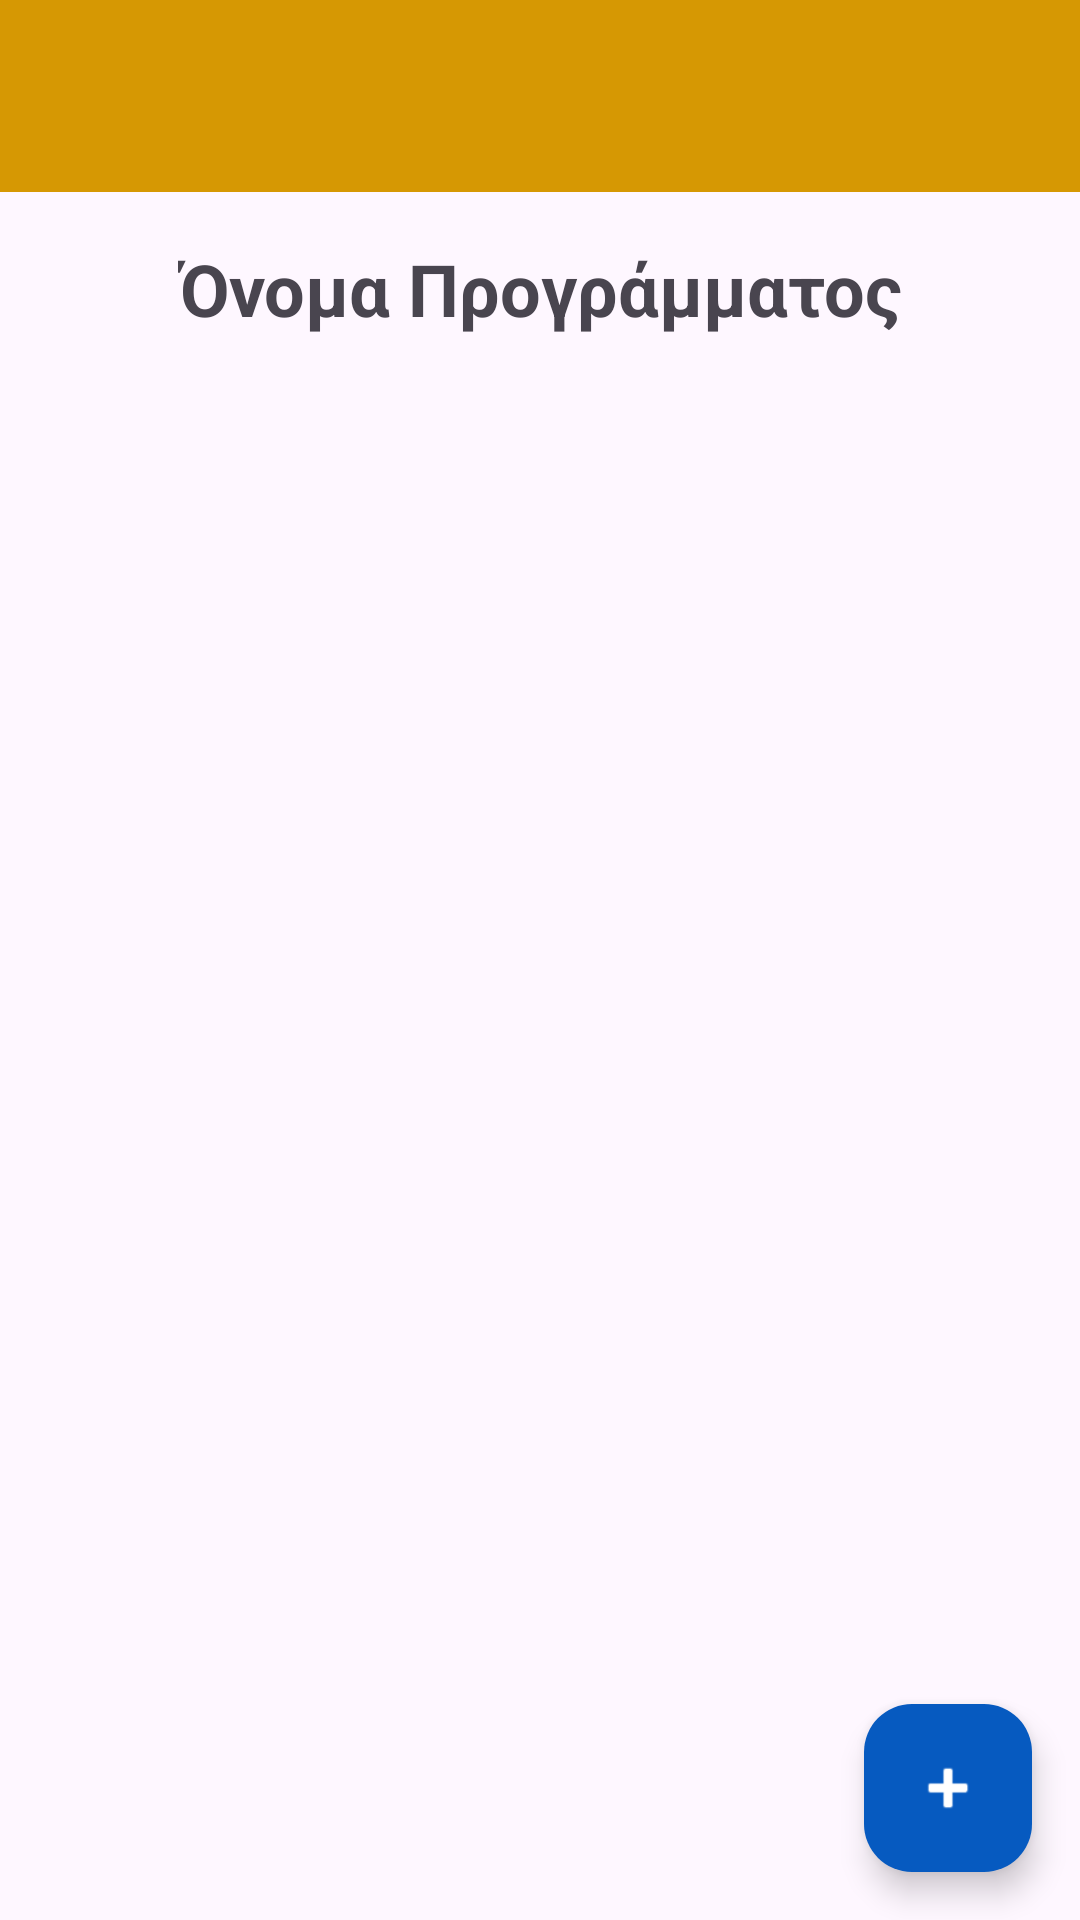

Icons on this 1080x1920 Android screen, each with its box as (x1, y1, x2, y2):
Προσθήκη Άσκησης: (864, 1704, 1032, 1872)
